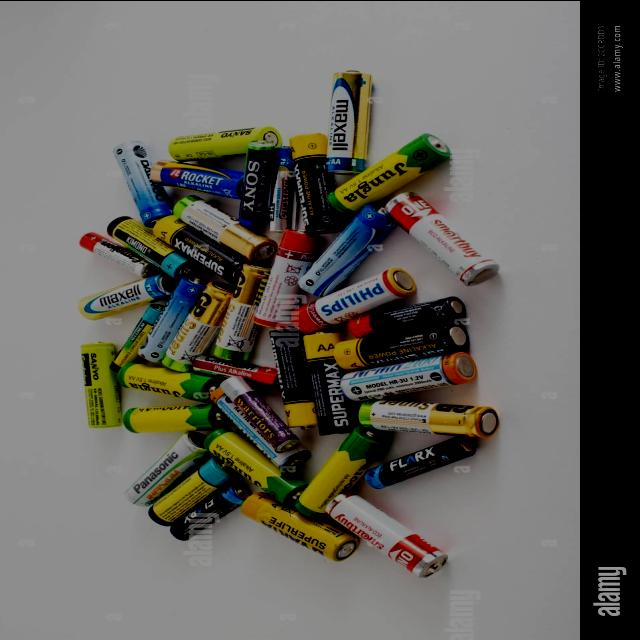AA: (323, 128, 456, 218), (381, 188, 502, 286), (323, 487, 453, 578), (292, 199, 399, 299), (292, 423, 391, 521), (289, 263, 419, 334), (200, 425, 312, 506), (239, 490, 363, 562), (169, 191, 280, 262), (338, 349, 482, 402), (159, 278, 239, 373), (330, 320, 471, 370), (122, 429, 211, 507), (104, 212, 201, 283), (147, 453, 239, 527), (363, 435, 478, 491), (355, 398, 505, 439), (324, 67, 376, 177), (76, 271, 178, 322), (166, 123, 285, 162), (115, 361, 223, 403), (77, 338, 126, 429), (120, 401, 231, 434)
